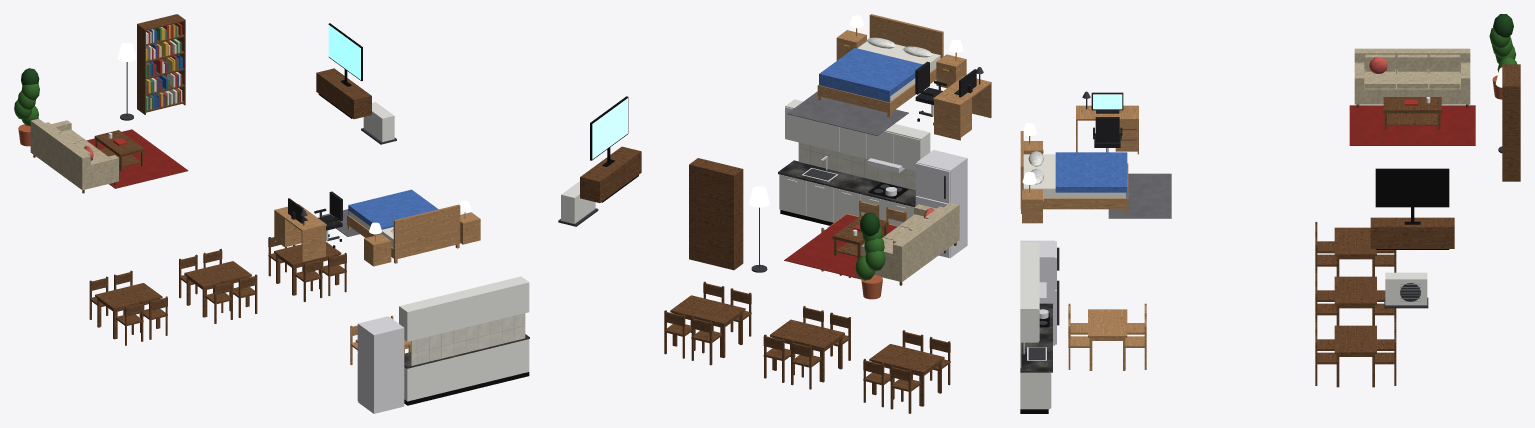
Rendered from i_bento_shop.gltf.
The picture shows the model from 3 angles, left to right: view 1: azimuth 30°, elevation 25°; view 2: azimuth 150°, elevation 25°; view 3: azimuth 270°, elevation 25°; orthographic projection. The views are drawn at different scales.
Parts seen in each view (by area): view 1: I_bento_shop; view 2: I_bento_shop; view 3: I_bento_shop.
Boxes of the visible parts, x1,y1,x2,y2 form: I_bento_shop: (14, 14, 529, 413); I_bento_shop: (558, 14, 991, 413); I_bento_shop: (1020, 14, 1520, 413).
Bounding box in the file's own units: 8.06 × 5.4 × 9.51.
Materials: 31 (11 with a texture image).
